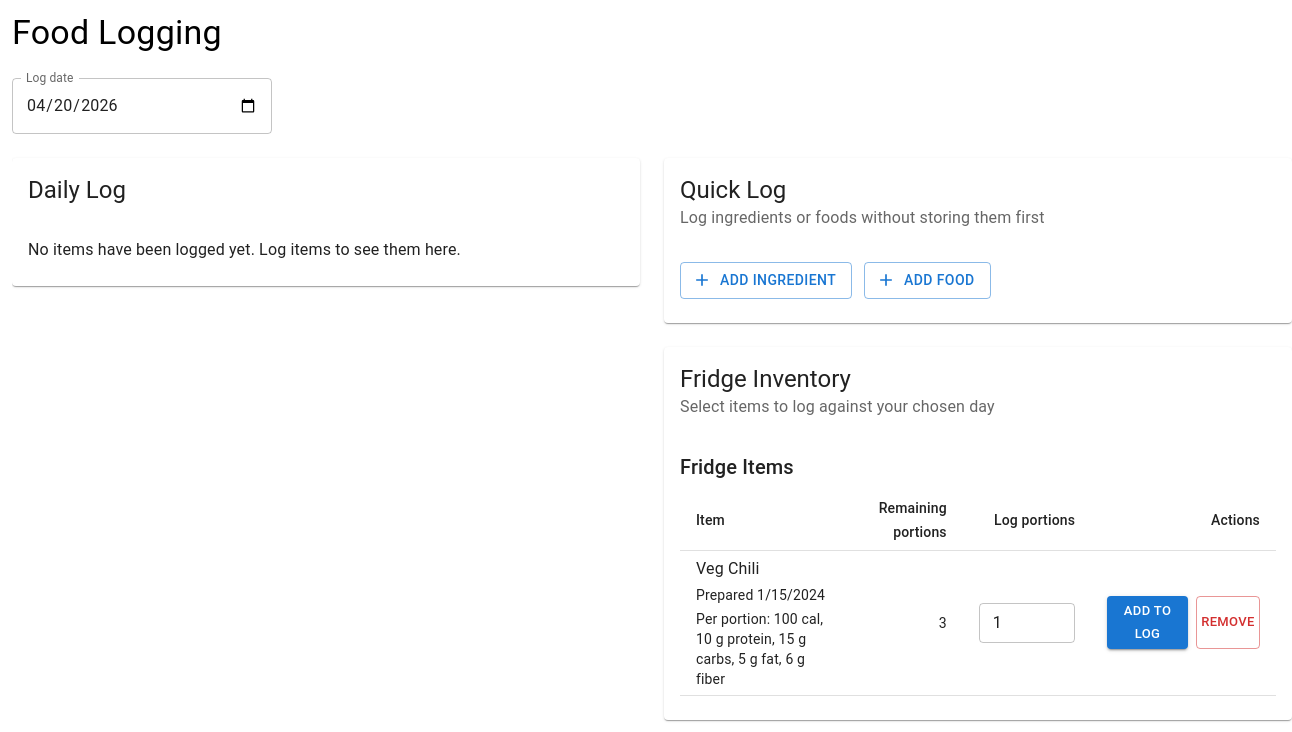
Test: Logging component › logs consumption and records totals for the selected day
This screenshot has width=1292, height=732.
Replace the text in the field named "Portions to log for Veg Chili" with "1.5": (1027, 622) [979,602,1075,642]
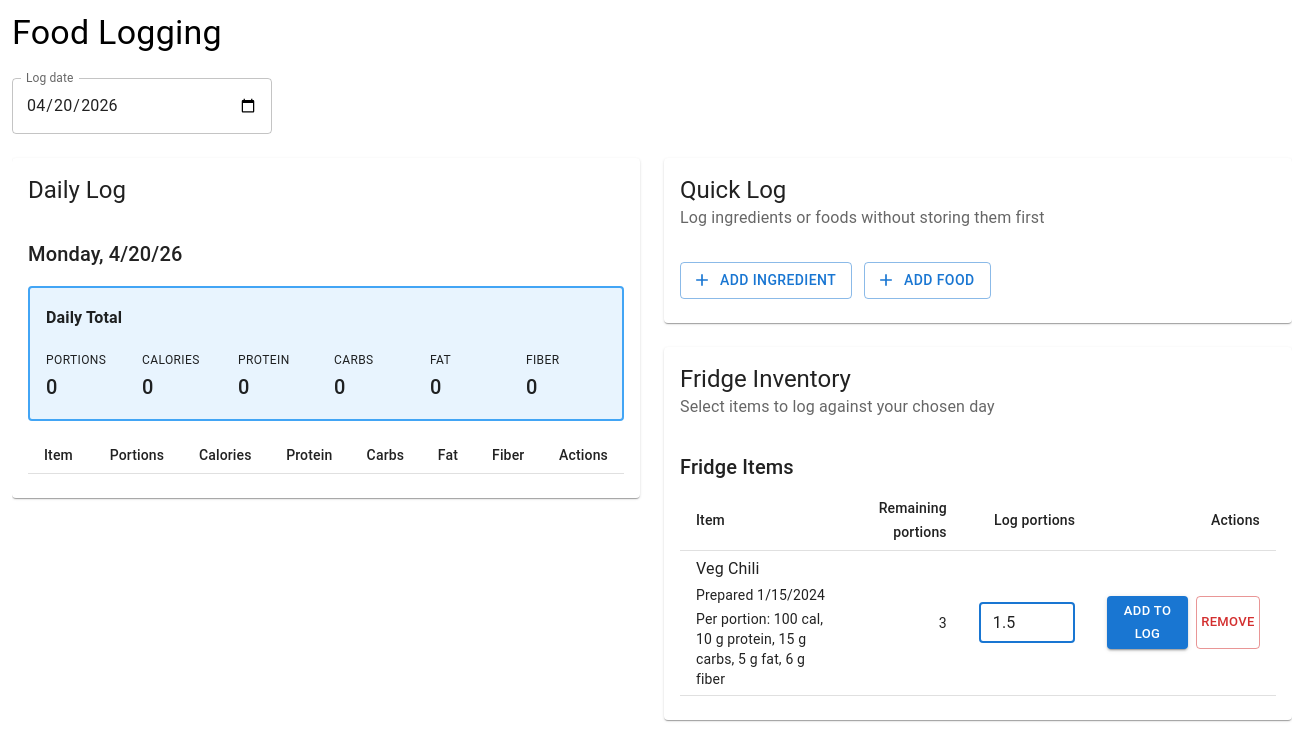
Click the button "Add to log": (1148, 623) [1107,596,1188,649]
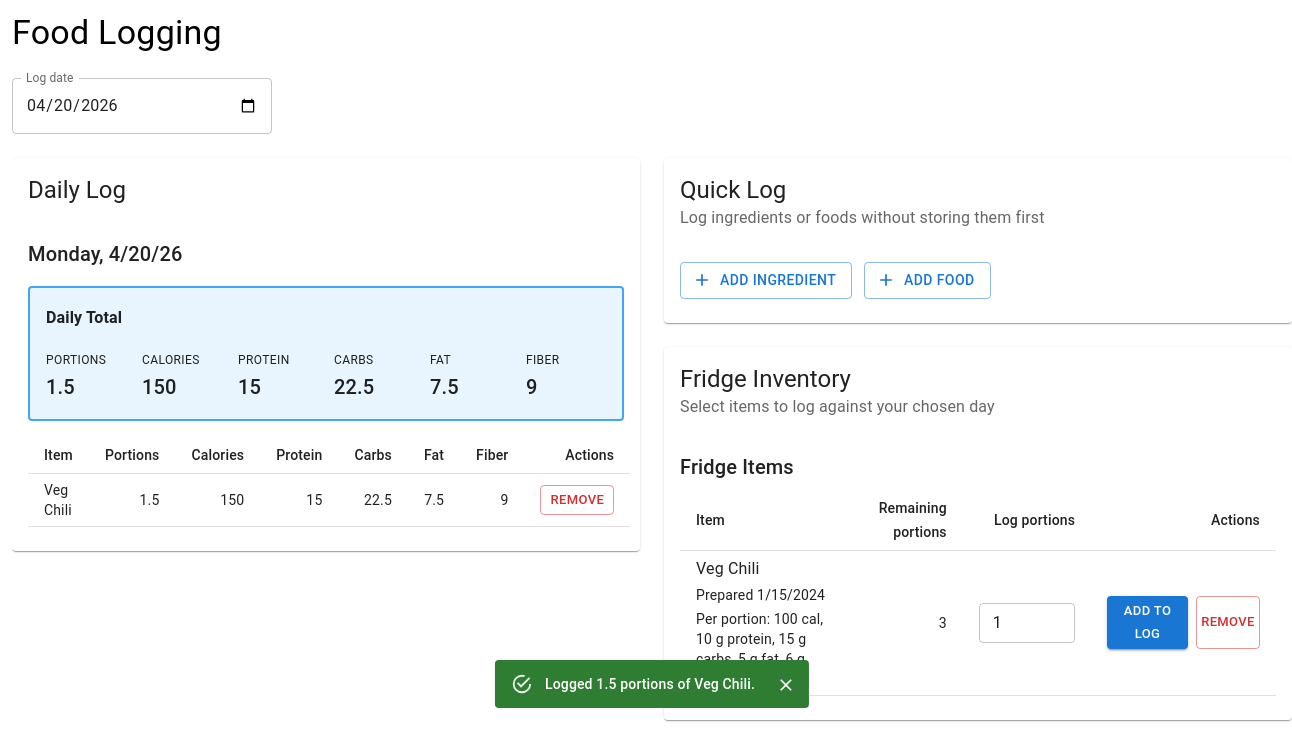
expect the text named "Total portions" reads "1.5": met, box [46,375,75,399]
expect the text named "Total calories" reads "150": met, box [142,375,177,399]
expect the text named "Total protein" reads "15": met, box [238,375,261,399]
